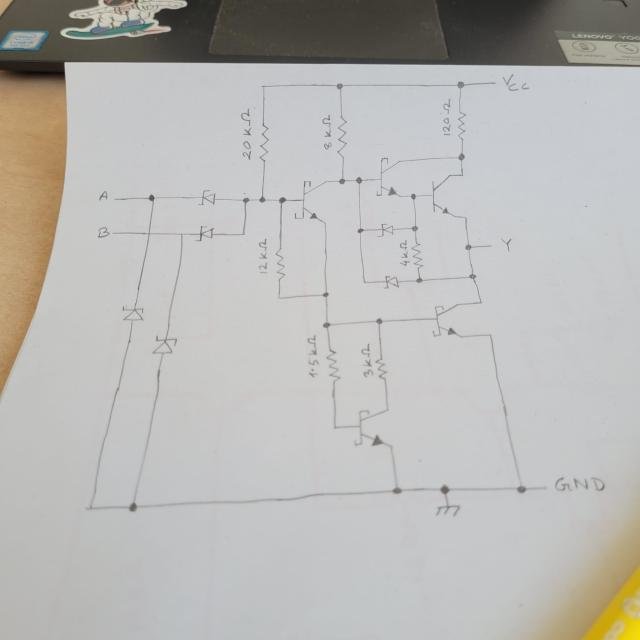crossover: (146, 231, 152, 237)
diode: (150, 333, 178, 356), (118, 303, 146, 323), (193, 224, 215, 244), (197, 189, 218, 208), (376, 222, 395, 239), (381, 274, 400, 290)
ground: (433, 502, 462, 518)
junction: (456, 79, 466, 90), (439, 484, 448, 494), (414, 277, 424, 285), (516, 485, 526, 493), (128, 502, 136, 511), (392, 487, 401, 494), (85, 504, 94, 511), (456, 171, 465, 178), (355, 176, 363, 183), (258, 195, 265, 203), (322, 322, 331, 328), (278, 196, 285, 203), (486, 332, 493, 339), (458, 152, 464, 160), (468, 273, 476, 279), (465, 243, 471, 250), (148, 193, 154, 200), (338, 178, 345, 184), (463, 216, 470, 222), (357, 227, 363, 233), (240, 231, 246, 237), (276, 294, 282, 300), (410, 193, 416, 199), (337, 82, 342, 89), (376, 318, 382, 323), (242, 197, 248, 202), (332, 425, 338, 430), (478, 298, 483, 304), (178, 232, 184, 237), (411, 226, 417, 231), (322, 292, 329, 296), (260, 84, 266, 88), (362, 280, 366, 283)
resistor: (335, 112, 348, 158), (324, 348, 340, 382), (256, 123, 269, 162), (455, 108, 468, 142), (274, 248, 285, 280), (411, 242, 424, 268), (374, 358, 386, 380)
terminal: (486, 242, 493, 249), (112, 196, 119, 203), (492, 79, 498, 86), (540, 485, 546, 491), (110, 230, 116, 235)
text: (554, 474, 606, 494), (303, 333, 319, 378), (240, 106, 252, 160), (501, 72, 530, 92), (360, 342, 373, 380), (321, 114, 333, 150), (256, 238, 268, 273), (441, 99, 452, 137), (398, 240, 409, 266), (501, 237, 512, 252), (96, 226, 109, 238), (98, 189, 109, 202)
transistor: (352, 407, 392, 448), (294, 179, 328, 224), (428, 174, 457, 218), (373, 157, 403, 198), (430, 303, 462, 339)
